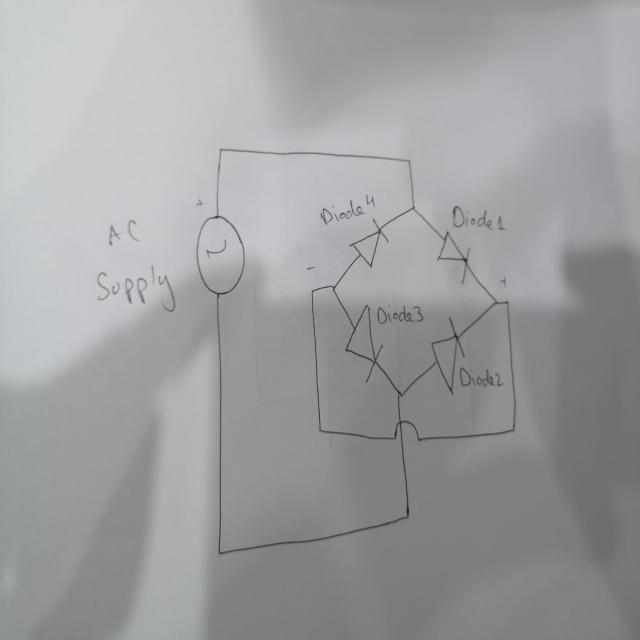crossover: (390, 418, 420, 444)
diode: (343, 301, 385, 385), (429, 313, 466, 398), (434, 229, 475, 286), (346, 216, 389, 268)
junction: (394, 385, 406, 401), (403, 506, 412, 523), (329, 280, 338, 295), (409, 202, 417, 215), (509, 423, 517, 436), (217, 144, 225, 156), (405, 155, 413, 167), (316, 424, 324, 435), (216, 547, 223, 558), (308, 286, 315, 296), (504, 298, 510, 306), (493, 298, 499, 306)
source: (194, 212, 246, 299)
text: (94, 261, 178, 314), (318, 190, 376, 229), (449, 203, 506, 233), (108, 217, 146, 249), (375, 304, 424, 327), (458, 364, 504, 388), (499, 274, 508, 288), (305, 262, 314, 275)
